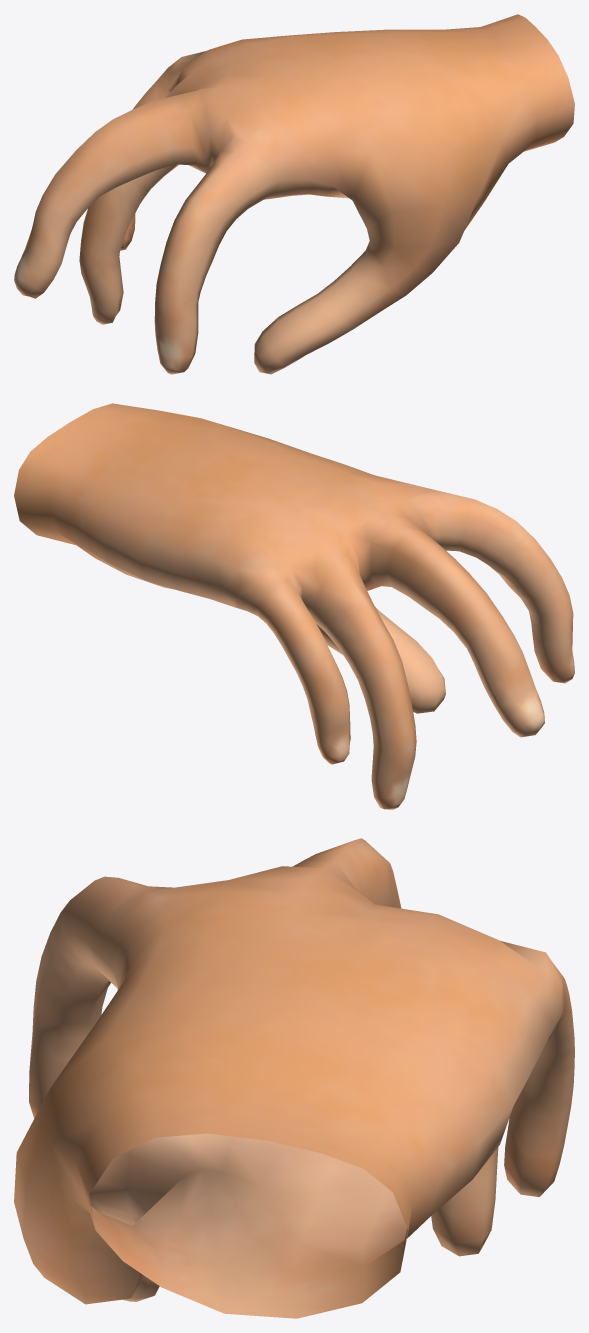
Rendered from H_lateral_tripod.fbx.
3 renders of one model, top to bottom at view 1: azimuth 30°, elevation 25°; view 2: azimuth 150°, elevation 25°; view 3: azimuth 270°, elevation 25°, orthographic. The views are drawn at different scales.
Visible parts, largest first — view 1: H_lateral_tripod; view 2: H_lateral_tripod; view 3: H_lateral_tripod.
Part boxes in pixels (x1=…): H_lateral_tripod: x1=14, y1=14, x2=574, y2=374; H_lateral_tripod: x1=14, y1=403, x2=574, y2=809; H_lateral_tripod: x1=14, y1=838, x2=574, y2=1318.
Bounding box in the file's own units: 19 × 9.29 × 10.61.
Materials: 1 (1 with a texture image).
